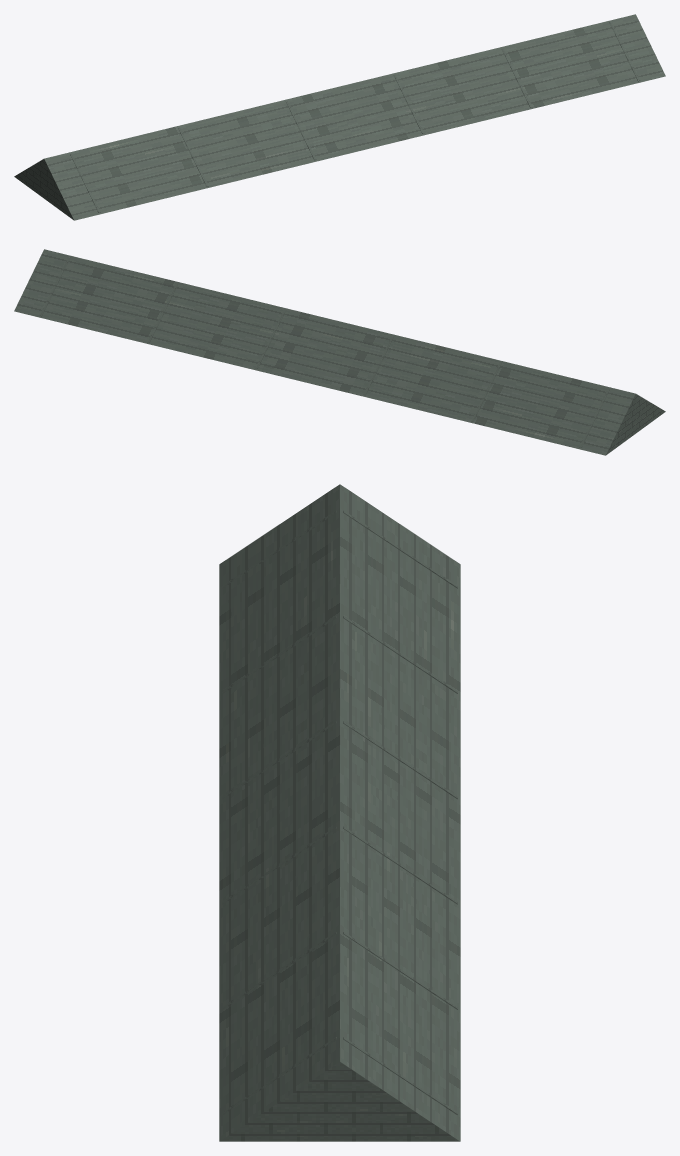
File: house_05_roof_ridge.glb
The picture shows the model from 3 angles, top to bottom: view 1: azimuth 30°, elevation 25°; view 2: azimuth 150°, elevation 25°; view 3: azimuth 270°, elevation 25°; orthographic projection. The views are drawn at different scales.
Parts seen in each view (by area): view 1: house_05_roof_ridge; view 2: house_05_roof_ridge; view 3: house_05_roof_ridge.
Boxes of the visible parts, x1,y1,x2,y2 form: house_05_roof_ridge: [14, 14, 665, 220]; house_05_roof_ridge: [14, 249, 665, 455]; house_05_roof_ridge: [219, 484, 460, 1141].
Size of the model in its own units: 3.4 by 0.22 by 0.6.
1 material, 1 textured.
